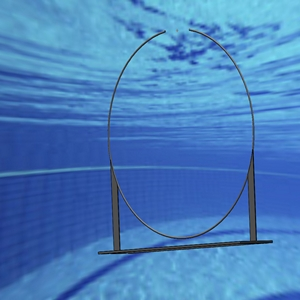circle: (99, 27, 274, 252)
